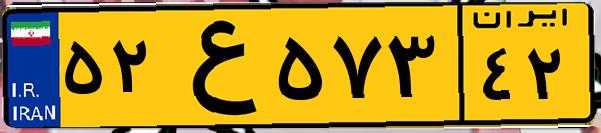2: (525, 38, 570, 115), (110, 28, 158, 98)
3: (385, 28, 445, 110)
4: (475, 38, 525, 113)
5: (270, 28, 330, 110), (57, 26, 110, 100)
7: (330, 28, 385, 110)
ع: (158, 12, 270, 120)
